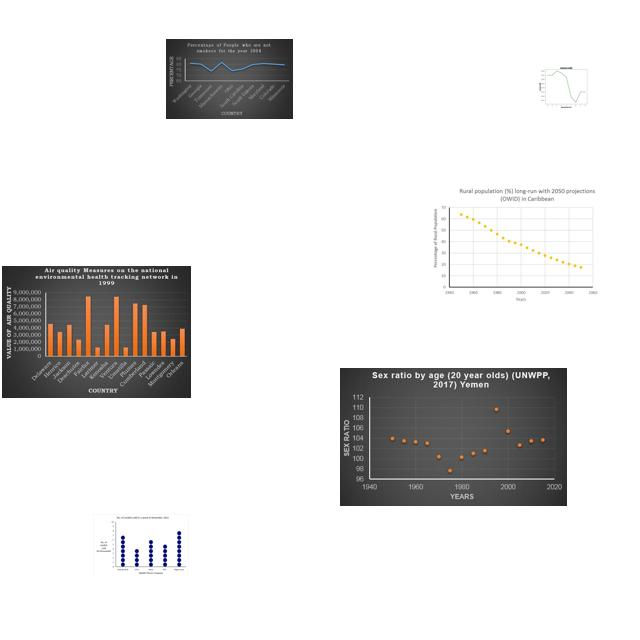Graph: (340, 368, 567, 506), (2, 266, 191, 398), (431, 186, 604, 306), (166, 39, 293, 119), (93, 514, 189, 577), (533, 64, 598, 109)
